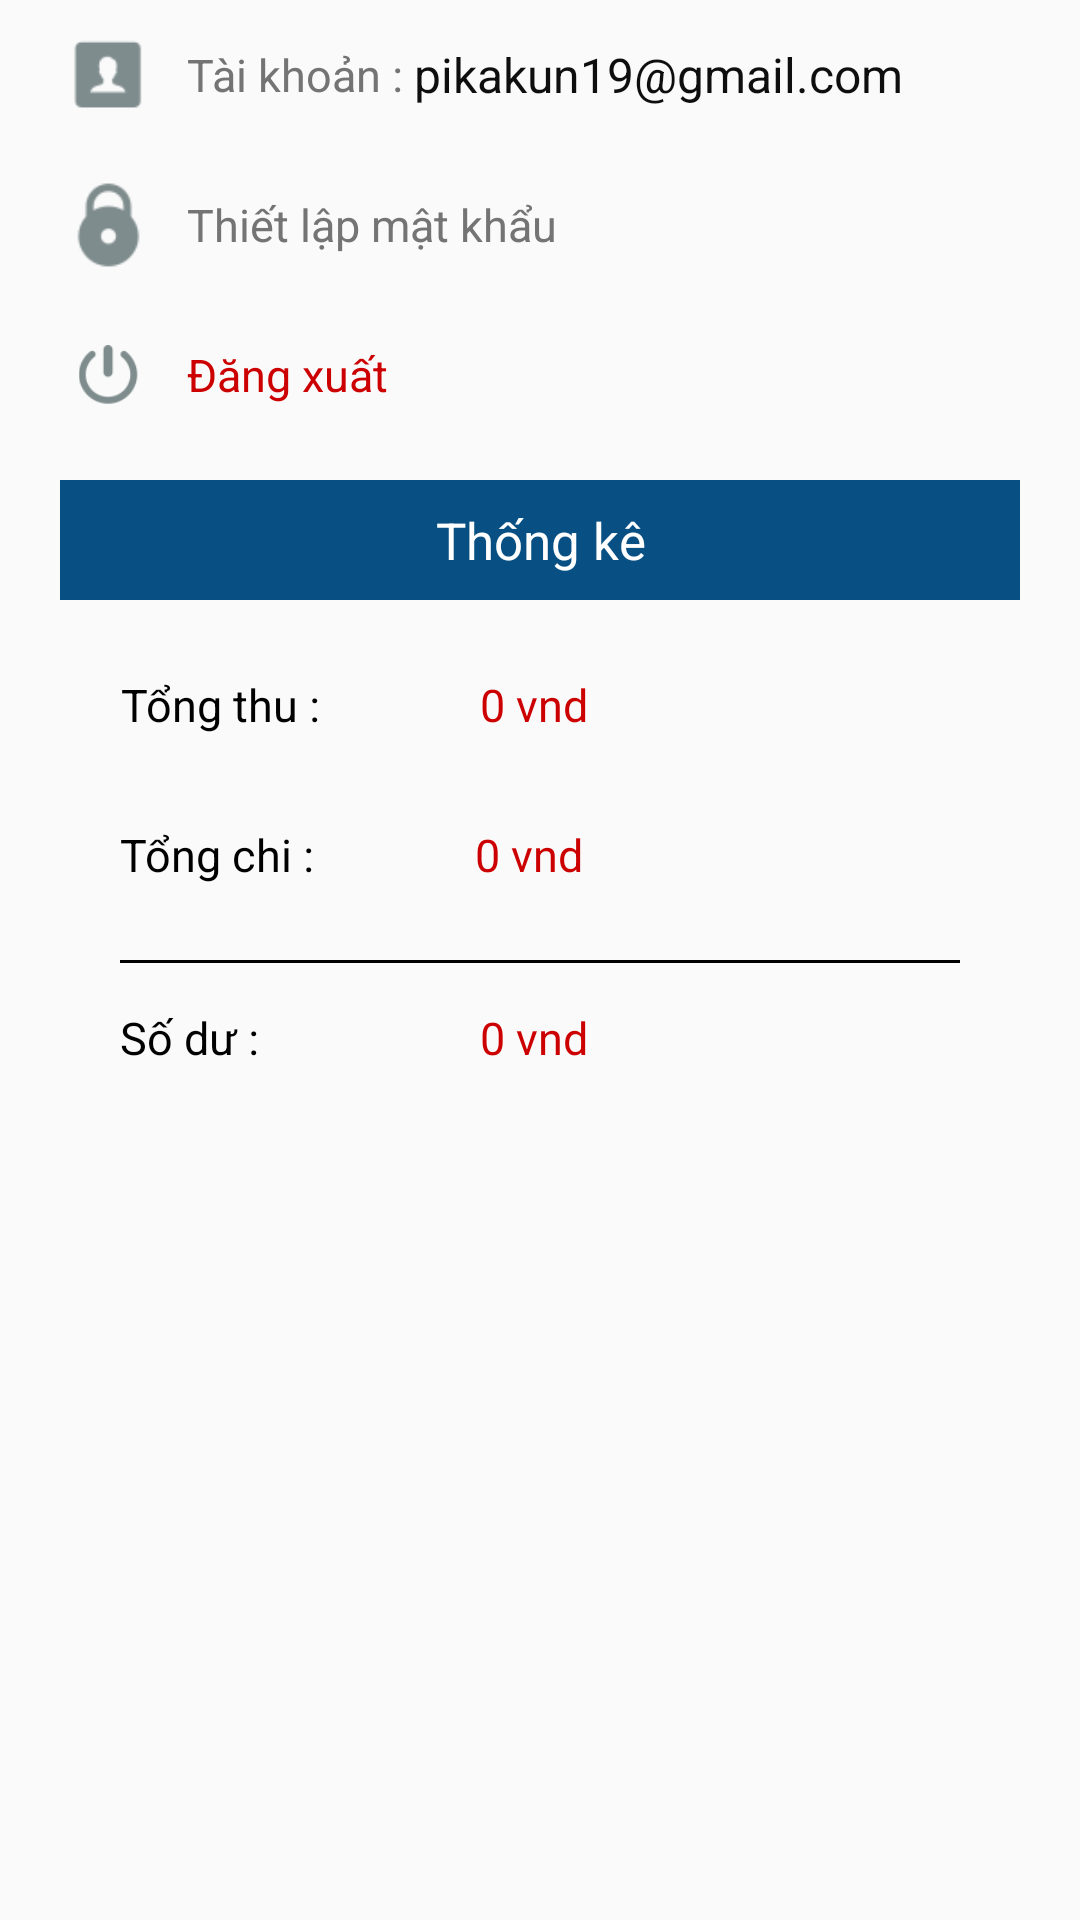

Icon click points for this 1080w x 1920h phone screenshot, format [x,y]:
account: [107,75]
password: [108,225]
